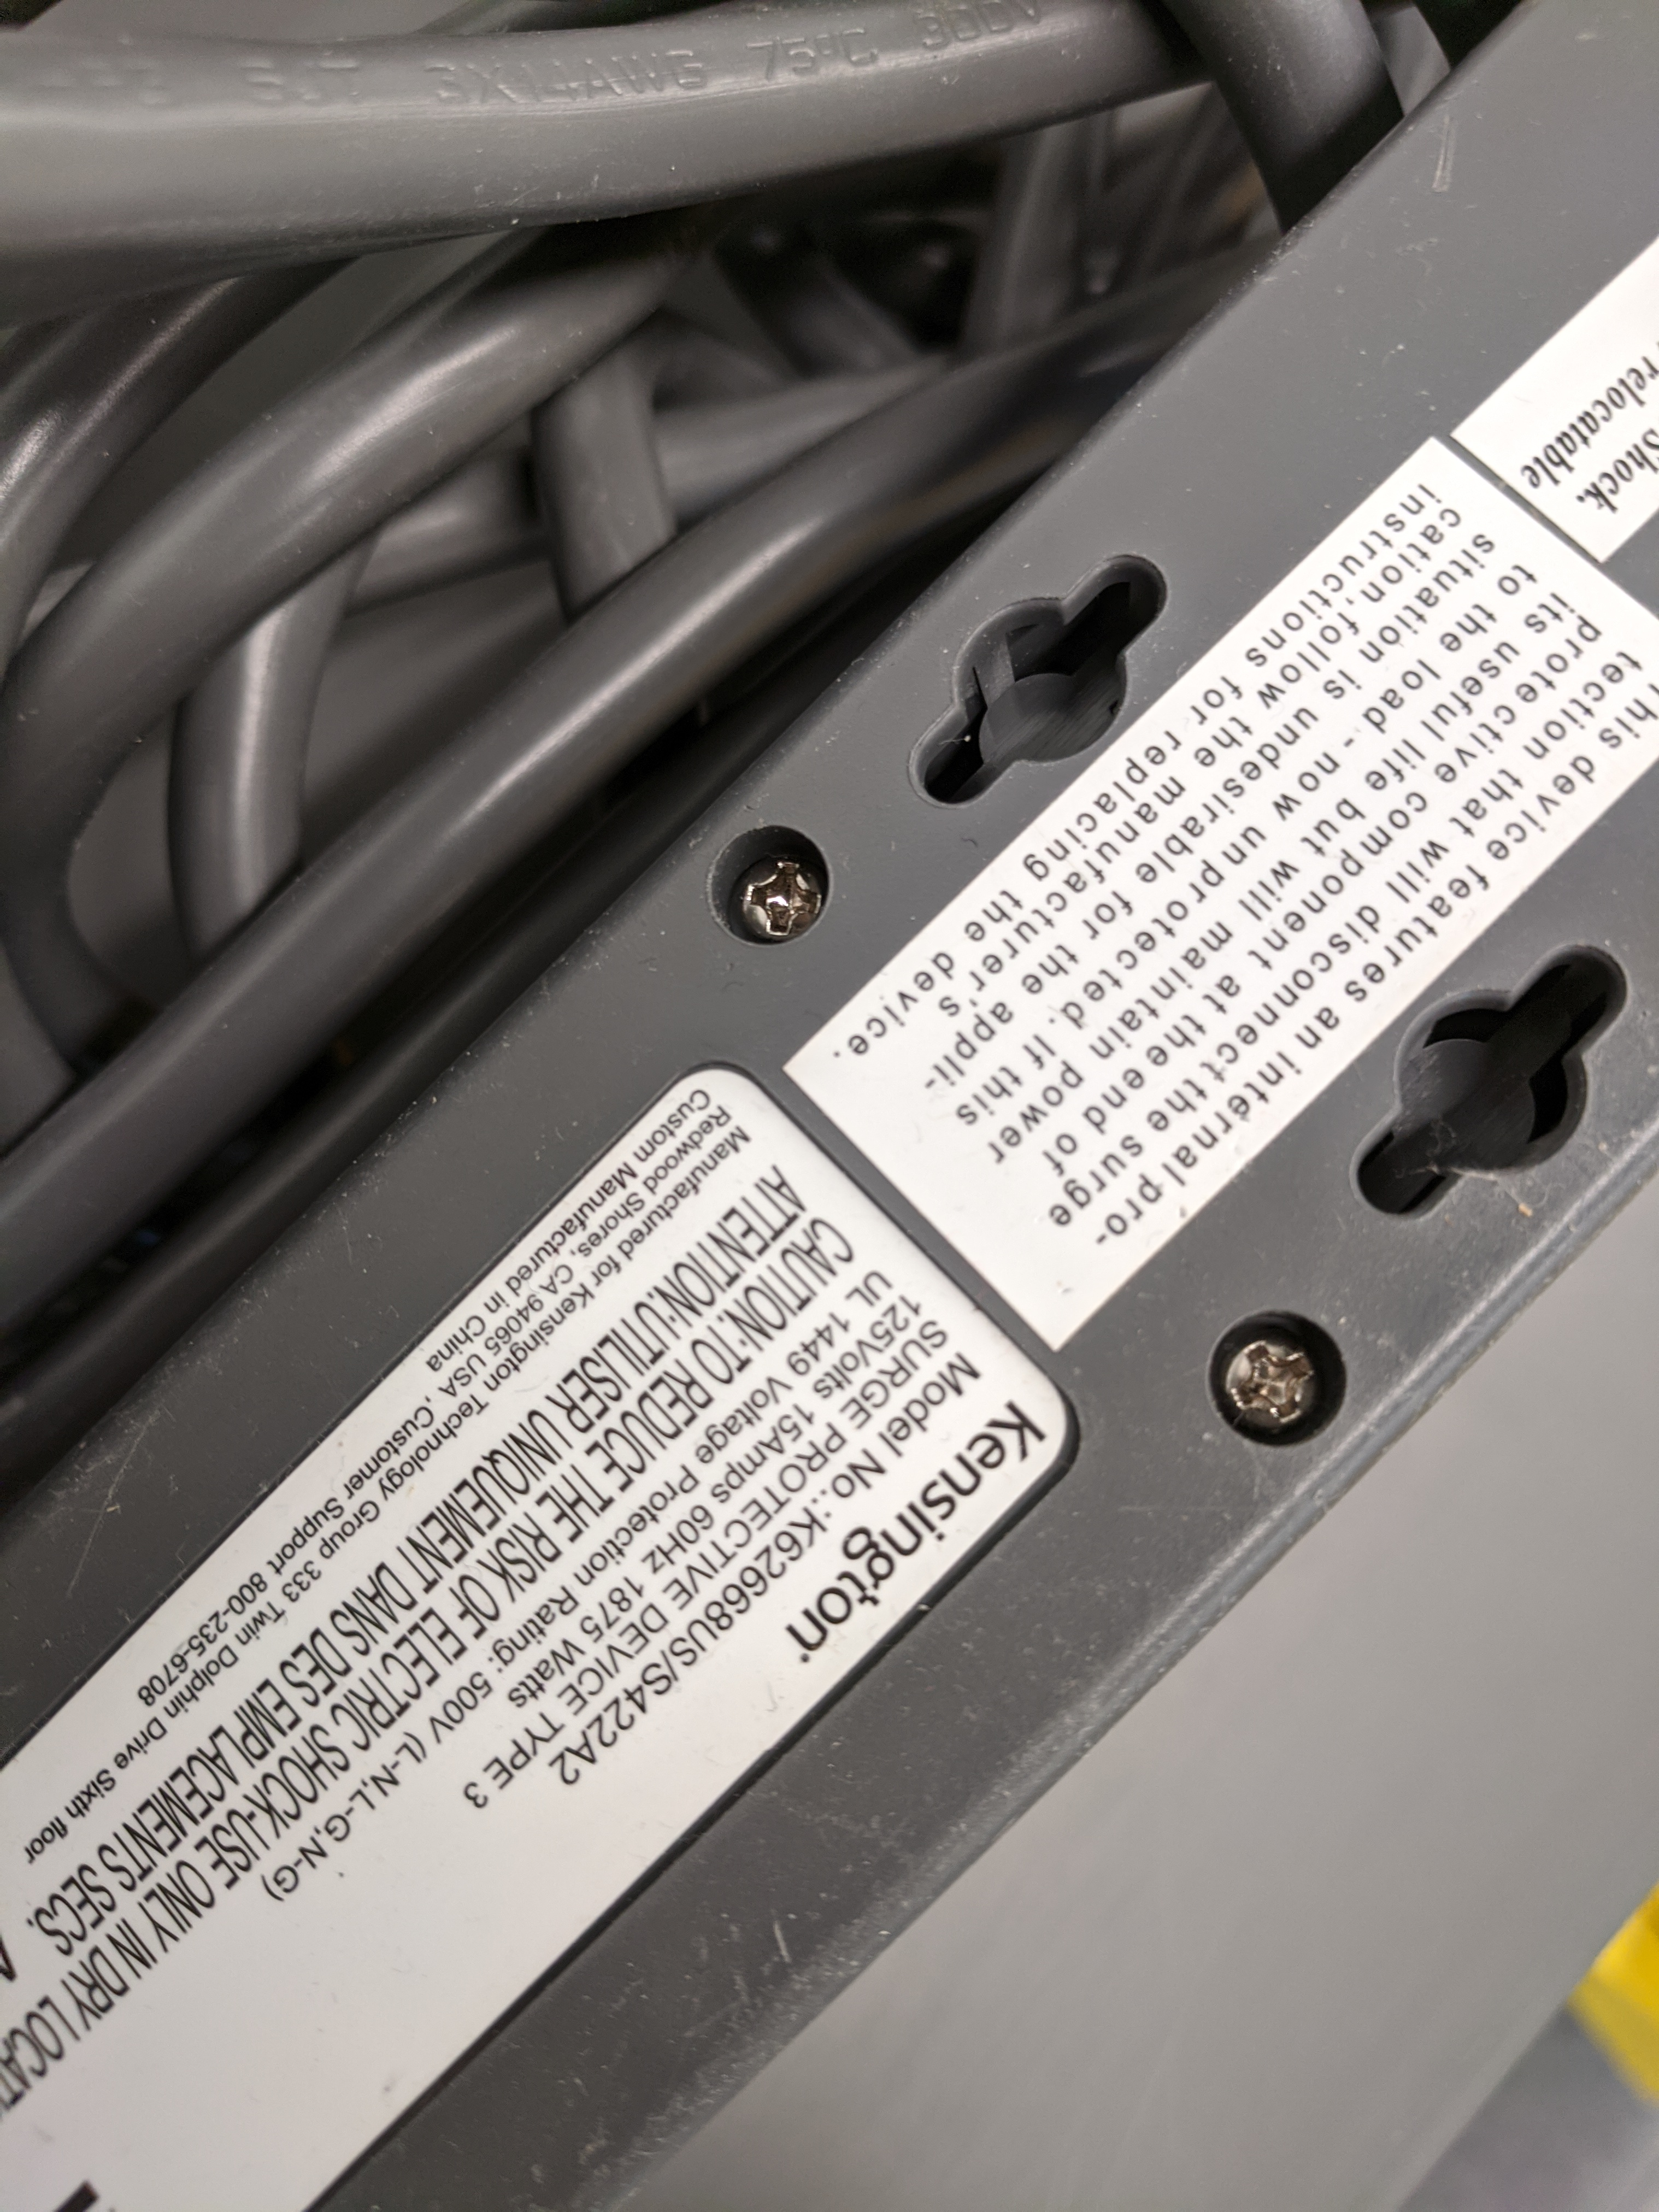cross_recessed_screw: (1202, 1310, 1354, 1444), (706, 831, 838, 939)
